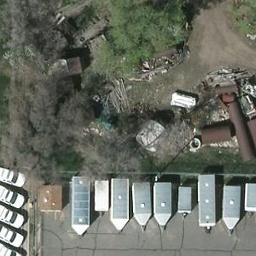car: (1, 166, 29, 188), (1, 187, 29, 209), (1, 205, 25, 229), (1, 222, 25, 246)
